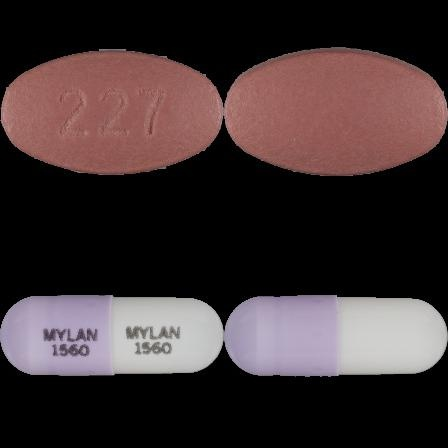53808-0650: (0, 0, 224, 224)
